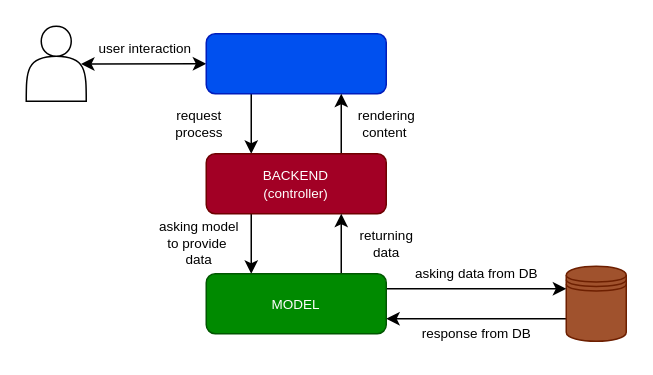
This 653x375 diagram has some shape labels left out. Here are the shapes that lost their labels. From the top down, the centre of each, then its label:
At point 295,63: "FRONTEND (view)".
At point 595,303: "DB".
